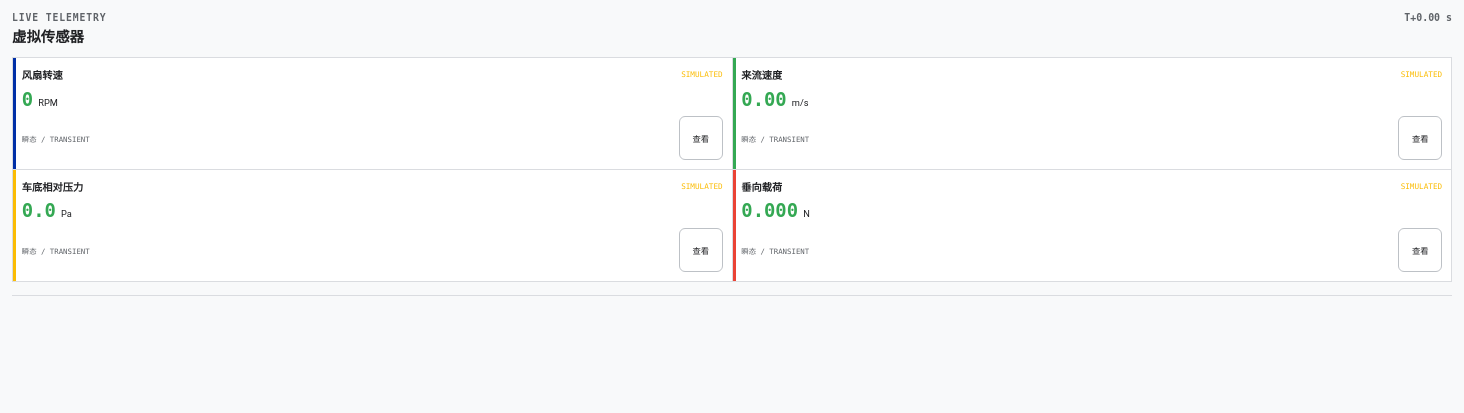
Test case: documents the 风扇转速 sensor definition, unit, cadence, source, noise, delay, drift, and provenance
Step 1. Click the button with aria-label "查看风扇转速说明" → (701, 138), box [679,116,723,160]
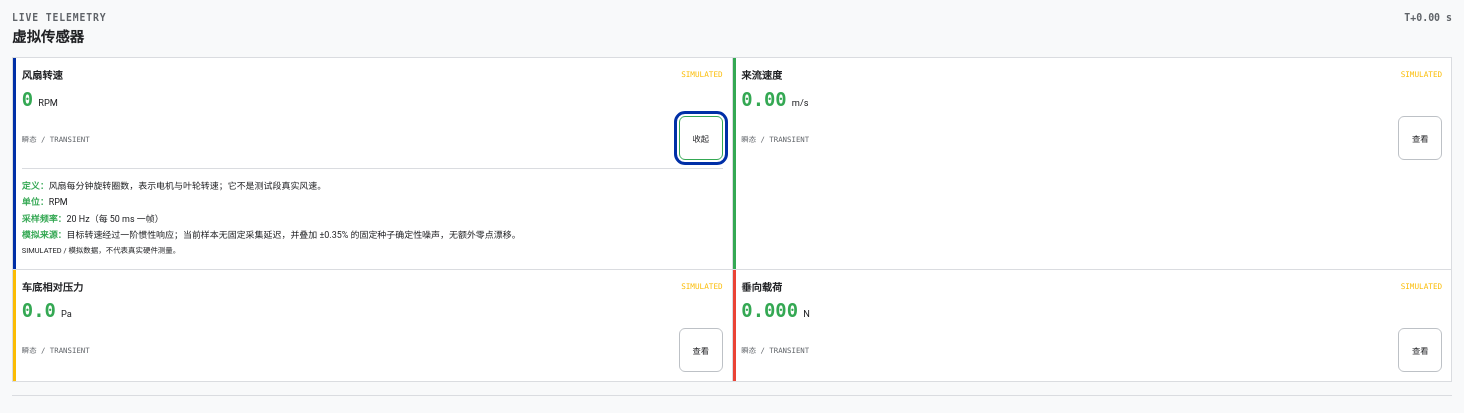
Expected: the element named "风扇转速传感器说明" shows "定义：", [22,181,49,191]
Expected: the element named "风扇转速传感器说明" shows "20 Hz（每 50 ms 一帧）", [67,214,164,224]
Expected: the element named "风扇转速传感器说明" shows "模拟来源：", [22,230,67,240]
